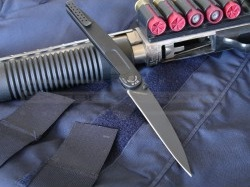knife: (118, 69, 194, 181)
